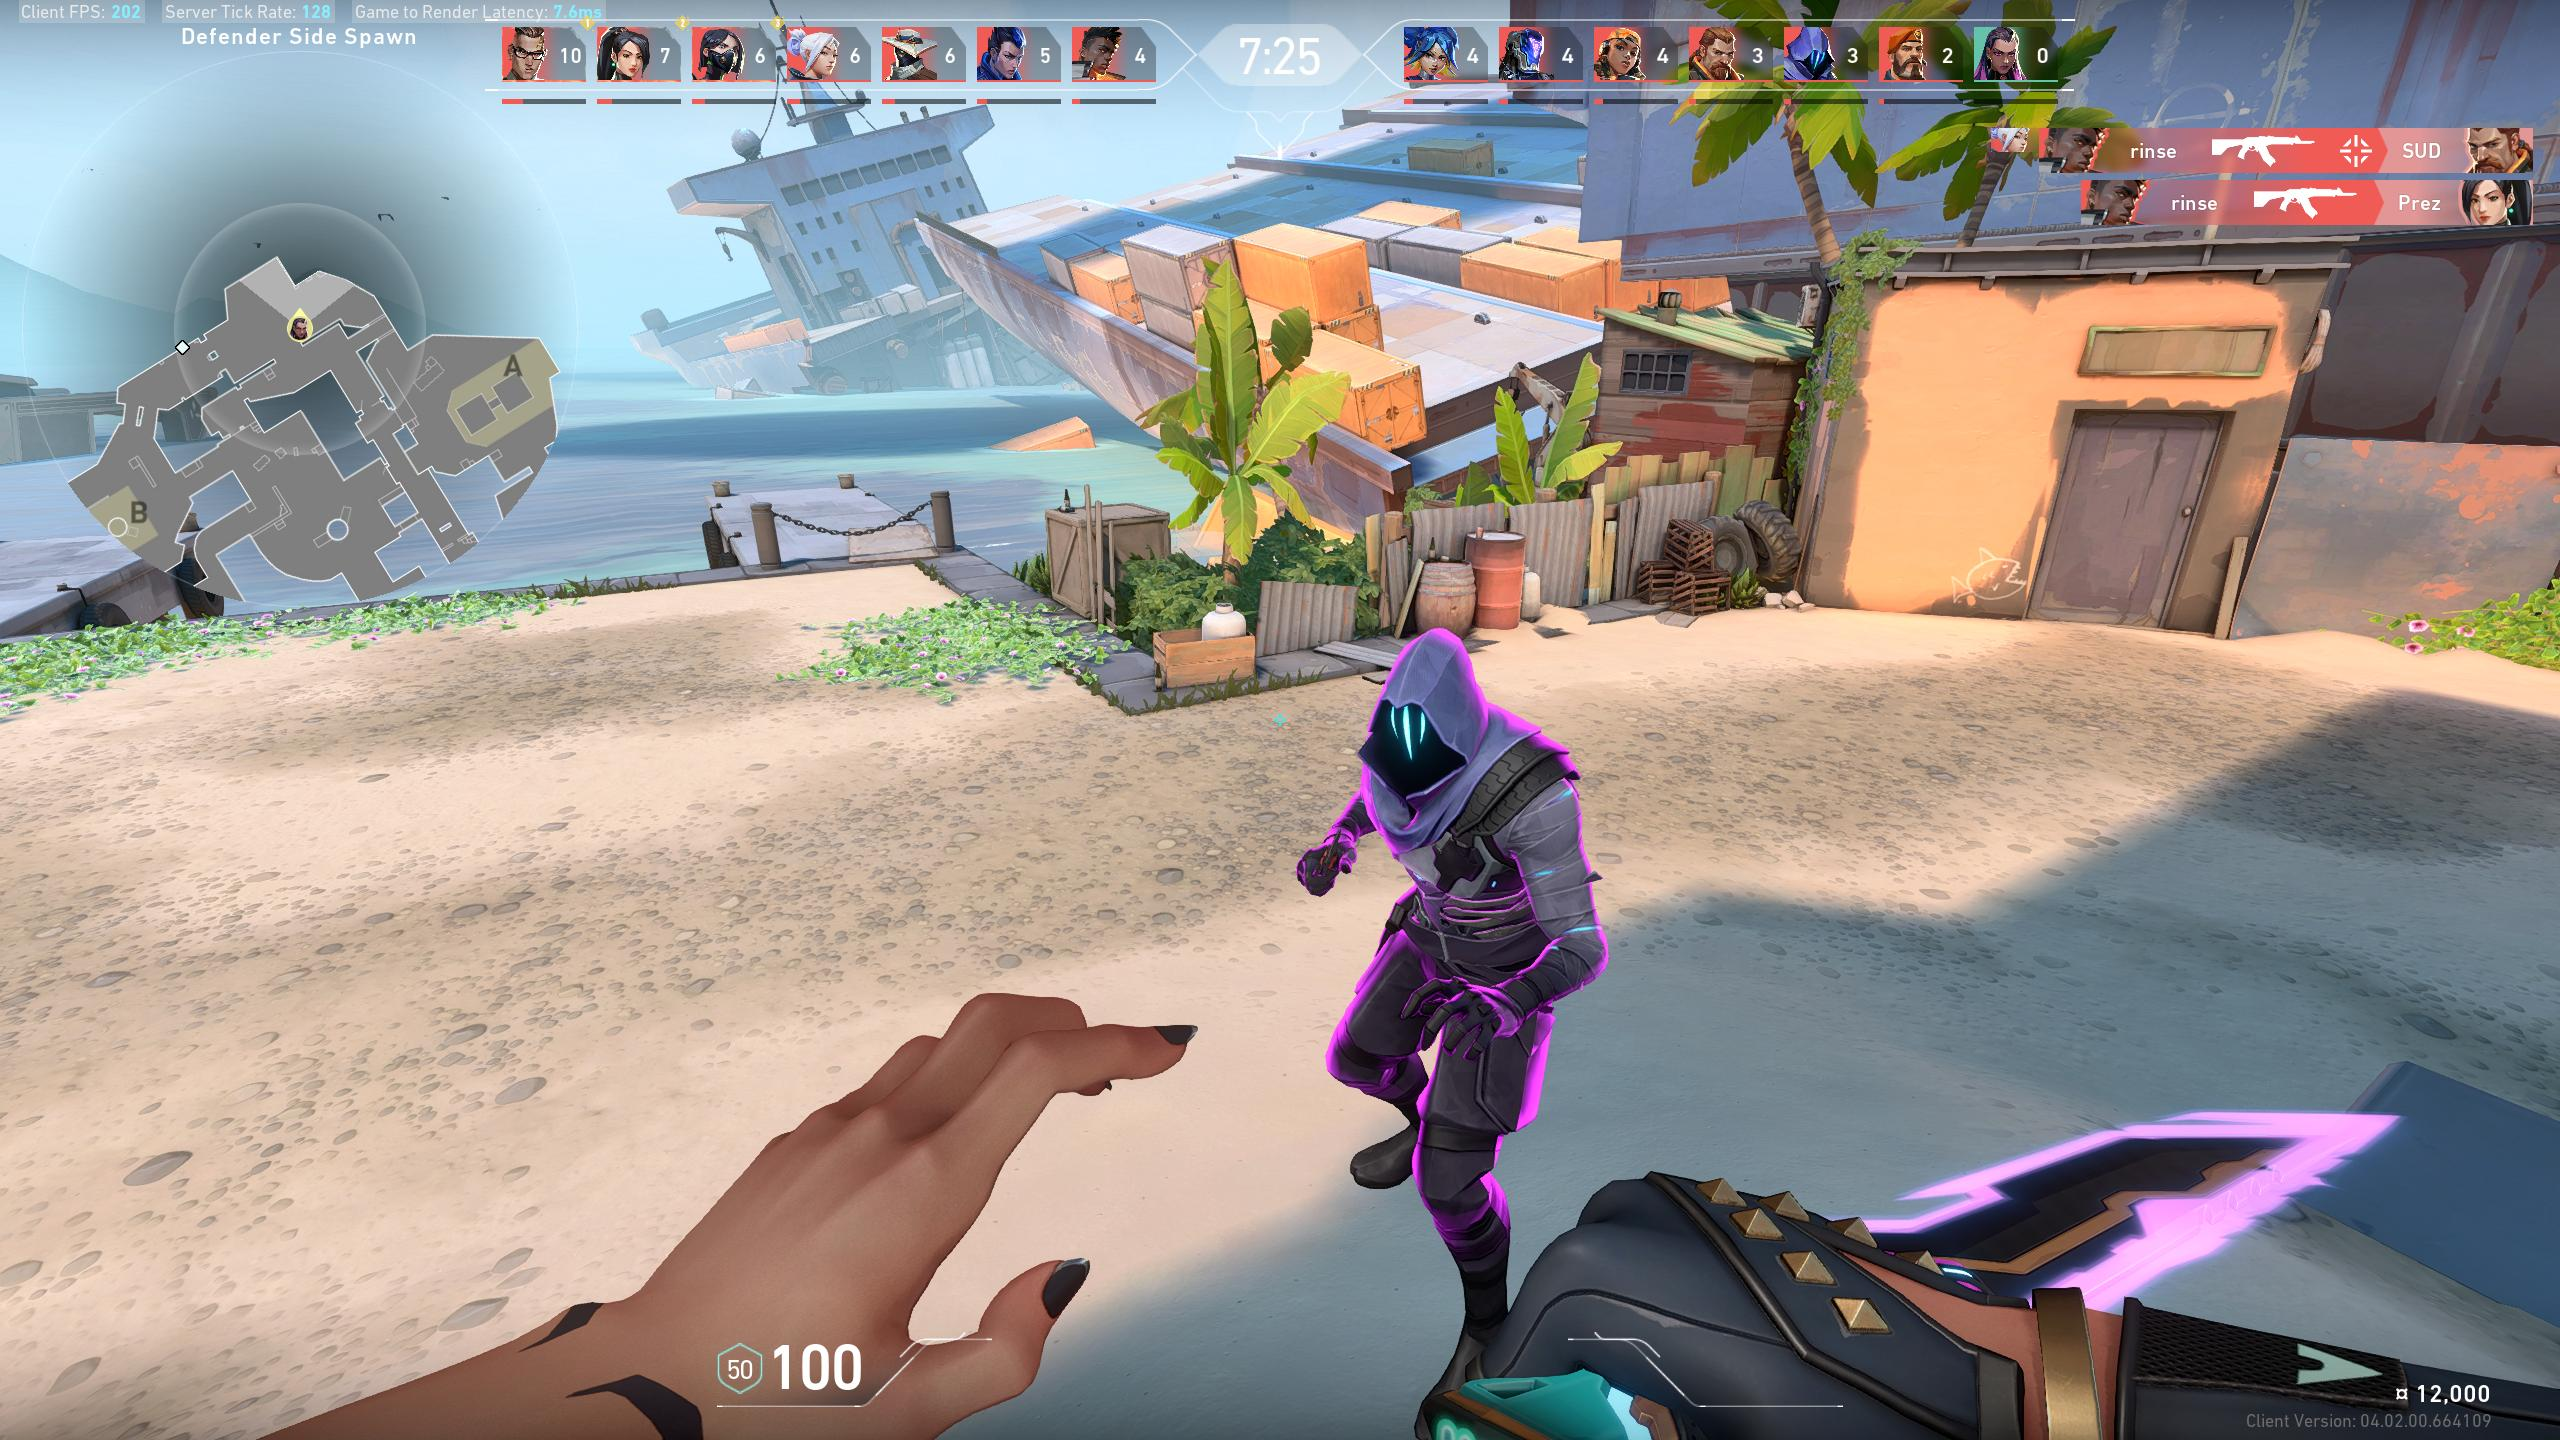enemyBody: (1431, 800, 1514, 948)
enemyHead: (1382, 703, 1473, 784)
